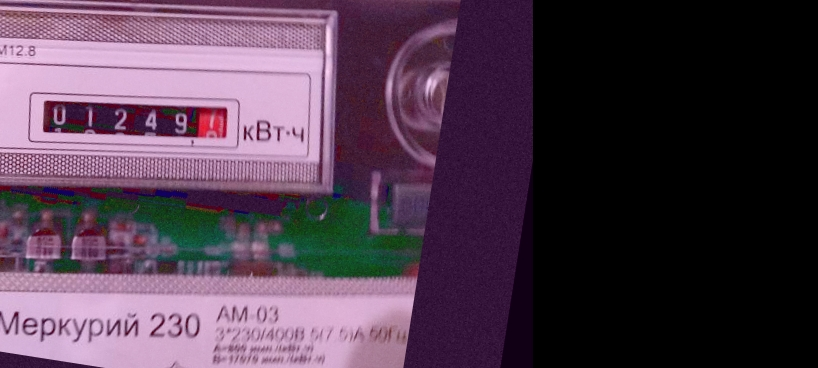0: (46, 98, 69, 127)
1: (78, 102, 97, 129)
2: (108, 105, 132, 133)
4: (140, 104, 162, 133)
7: (201, 105, 220, 131)
9: (169, 108, 191, 136)
screen: (15, 69, 257, 179)
